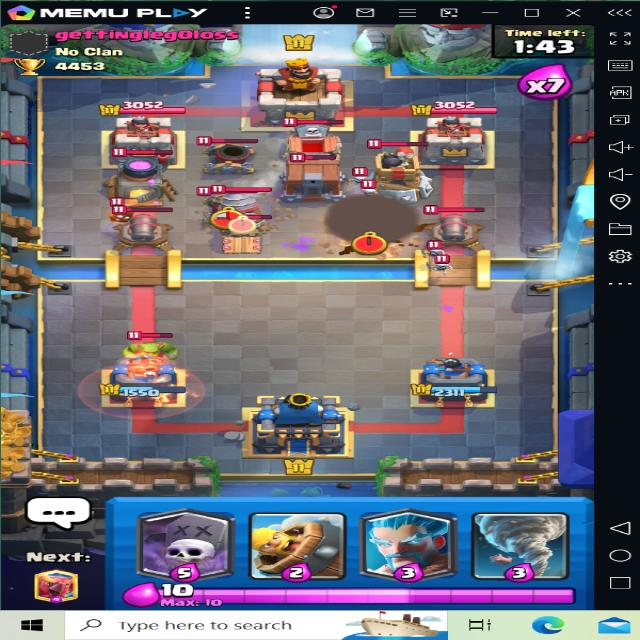Bombtower: (359, 138, 438, 206)
Cannon: (419, 203, 488, 253), (114, 206, 176, 250)
Firespirit: (106, 198, 132, 223)
Furnace: (107, 149, 182, 207)
Goblinbrawler: (118, 333, 180, 368)
Goblincage: (280, 150, 350, 198)
Goblindrill: (207, 179, 274, 225)
Mortar: (193, 180, 261, 222), (194, 138, 257, 168)
Skeleton: (417, 240, 447, 262), (358, 179, 390, 195), (432, 257, 457, 277)
Teslahidden: (210, 210, 270, 256)
Tombstone: (278, 116, 352, 159)
